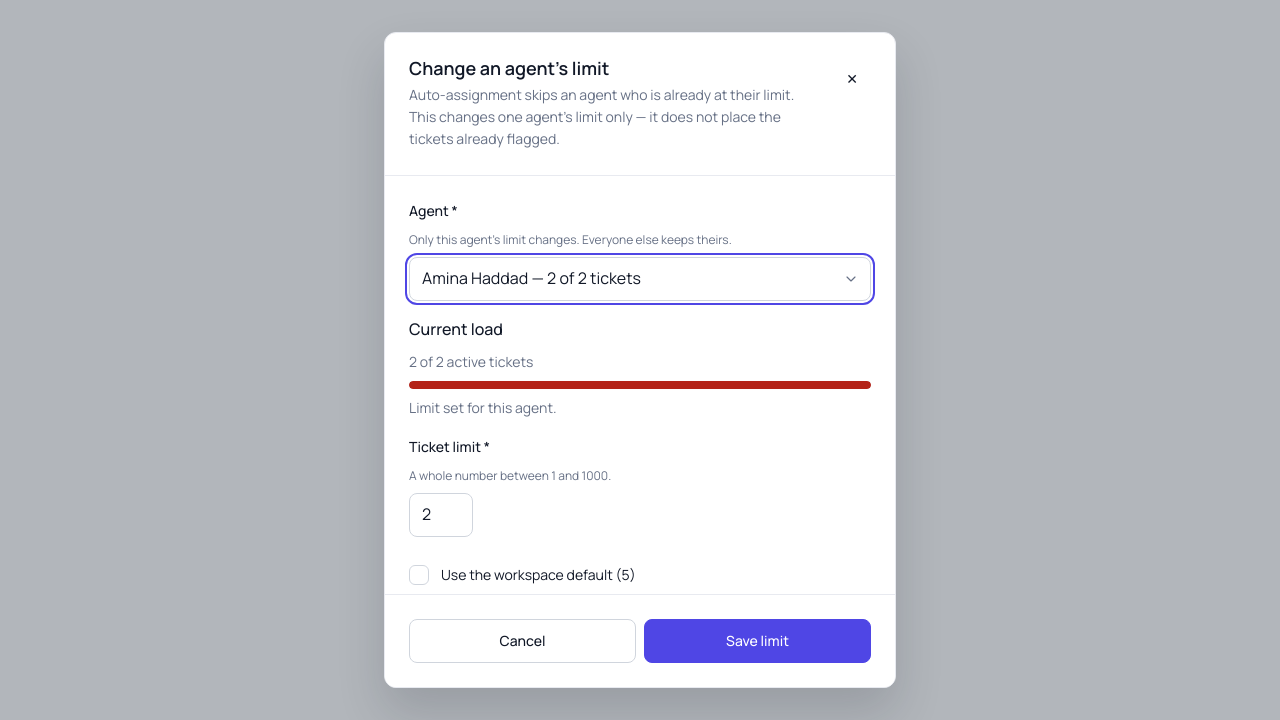
Test: AgentCapacityDialog › drops the server field error once the value it refused is gone
Replace the text in the number field labelled "Ticket limit *" with "4". click: (441, 515)
box: [409, 493, 473, 537]
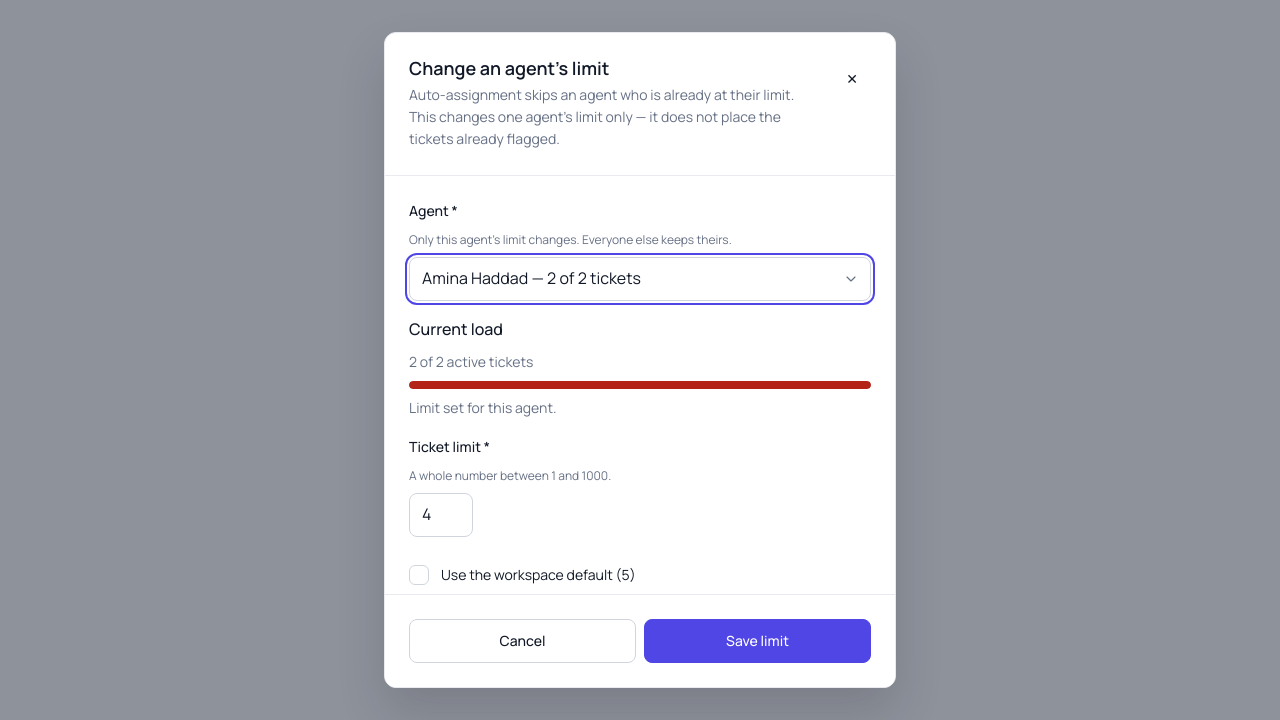
Click the button "Save limit". click: (758, 641)
box: [644, 619, 871, 663]
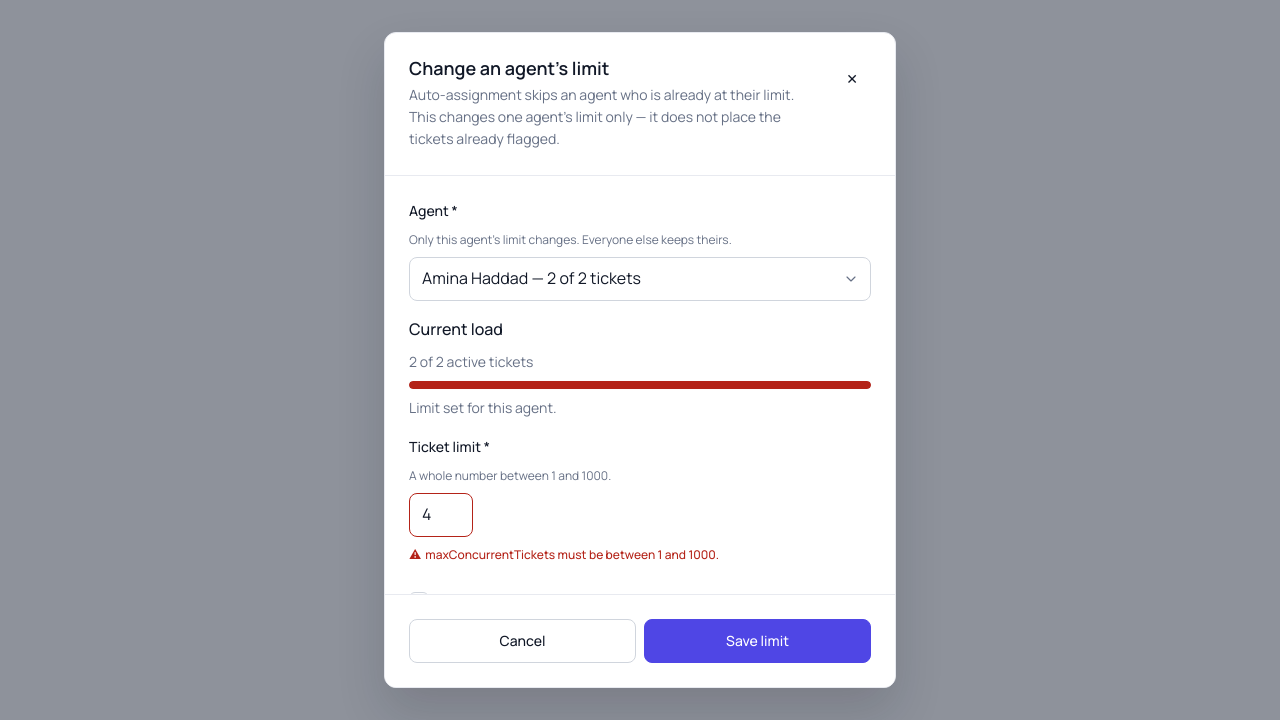
Replace the text in the number field labelled "Ticket limit *" with "6". click: (441, 515)
box: [409, 493, 473, 537]
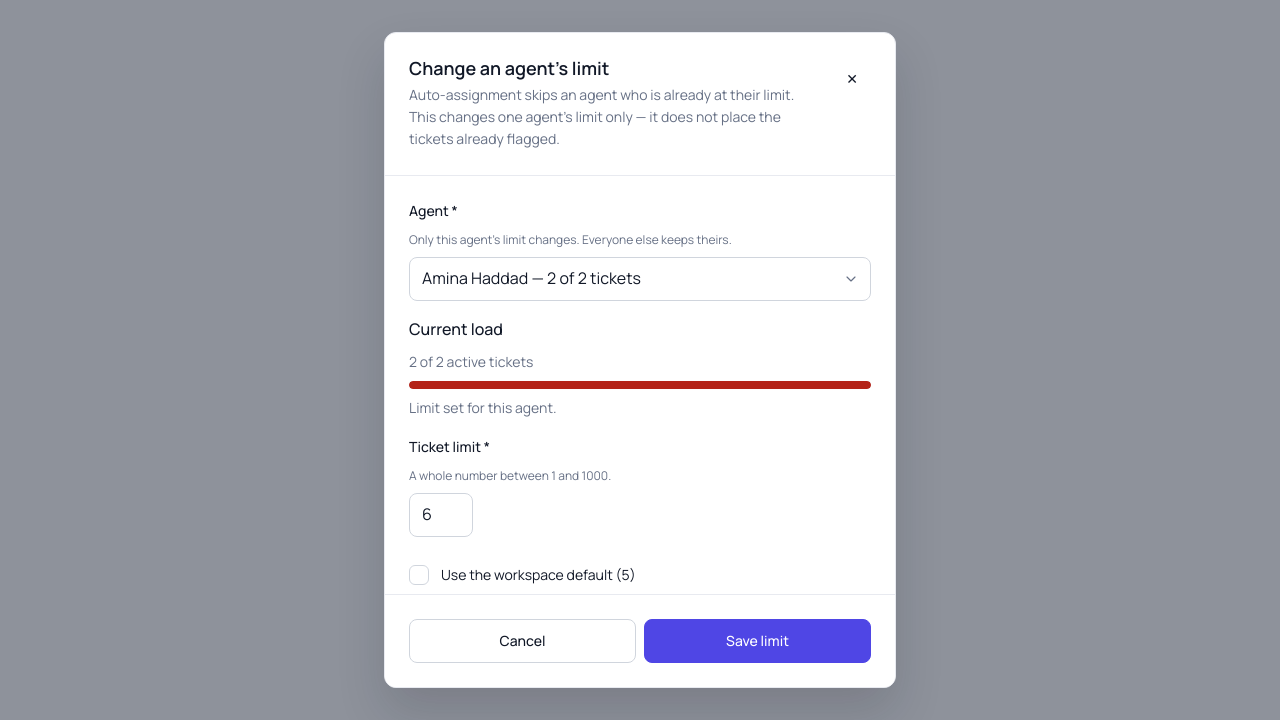
Check: the text "maxConcurrentTickets must be between 1 and 1000." is gone
